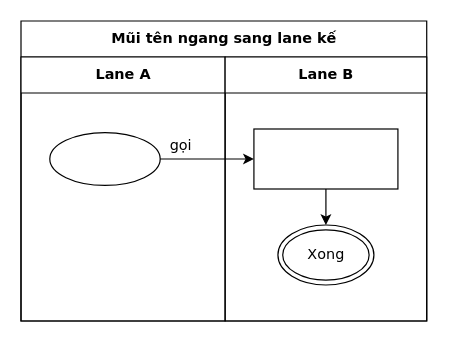
This 449x342 diagram has some shape labels left out. The centre of each missing label's shape, as x and y in pixels:
Bắt đầu: the point at 104,158
Nhận: the point at 325,158
